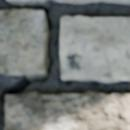brick: (5, 92, 129, 129), (60, 16, 129, 82), (0, 10, 46, 75), (8, 0, 129, 4)
crack: (0, 2, 53, 127), (42, 91, 92, 103)
